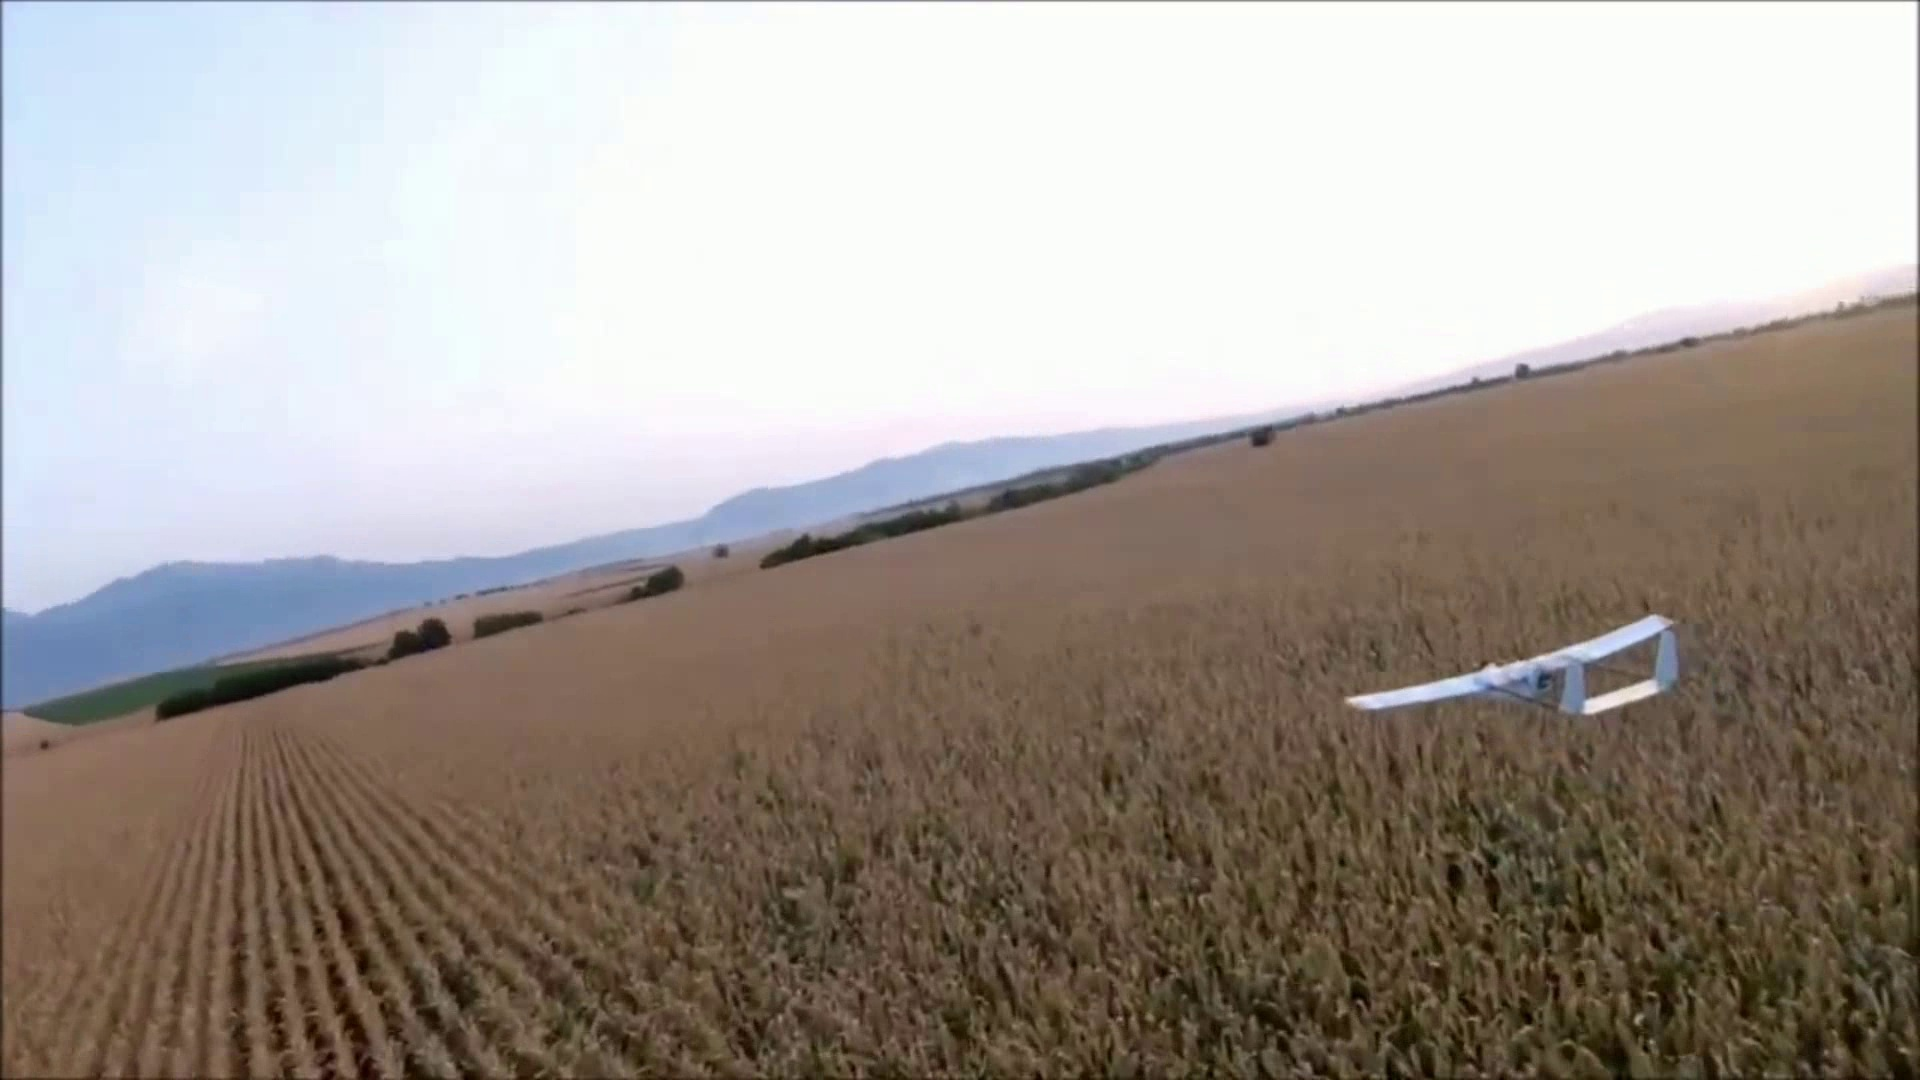airplane: (3, 278, 1902, 796), (1349, 612, 1683, 723)
